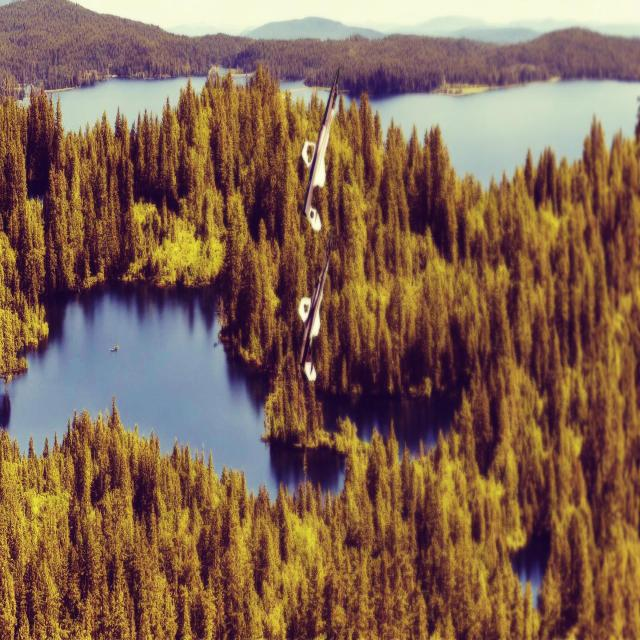airplane: (301, 62, 340, 231), (298, 226, 333, 382)
